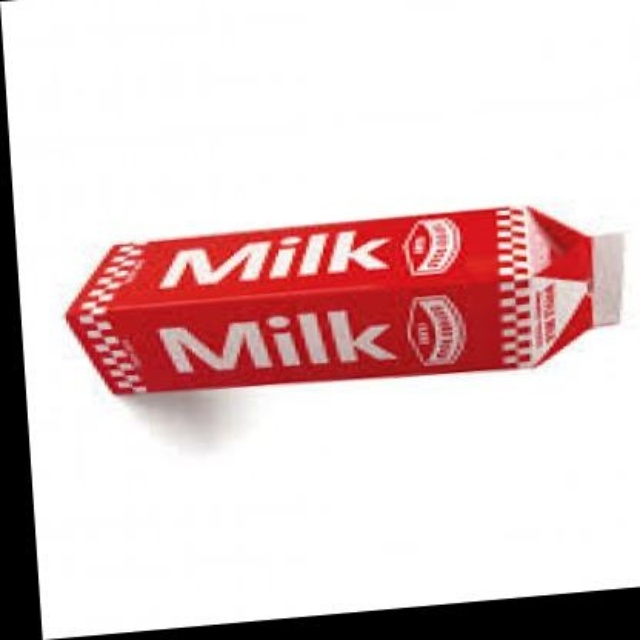trash: (66, 208, 622, 392)
